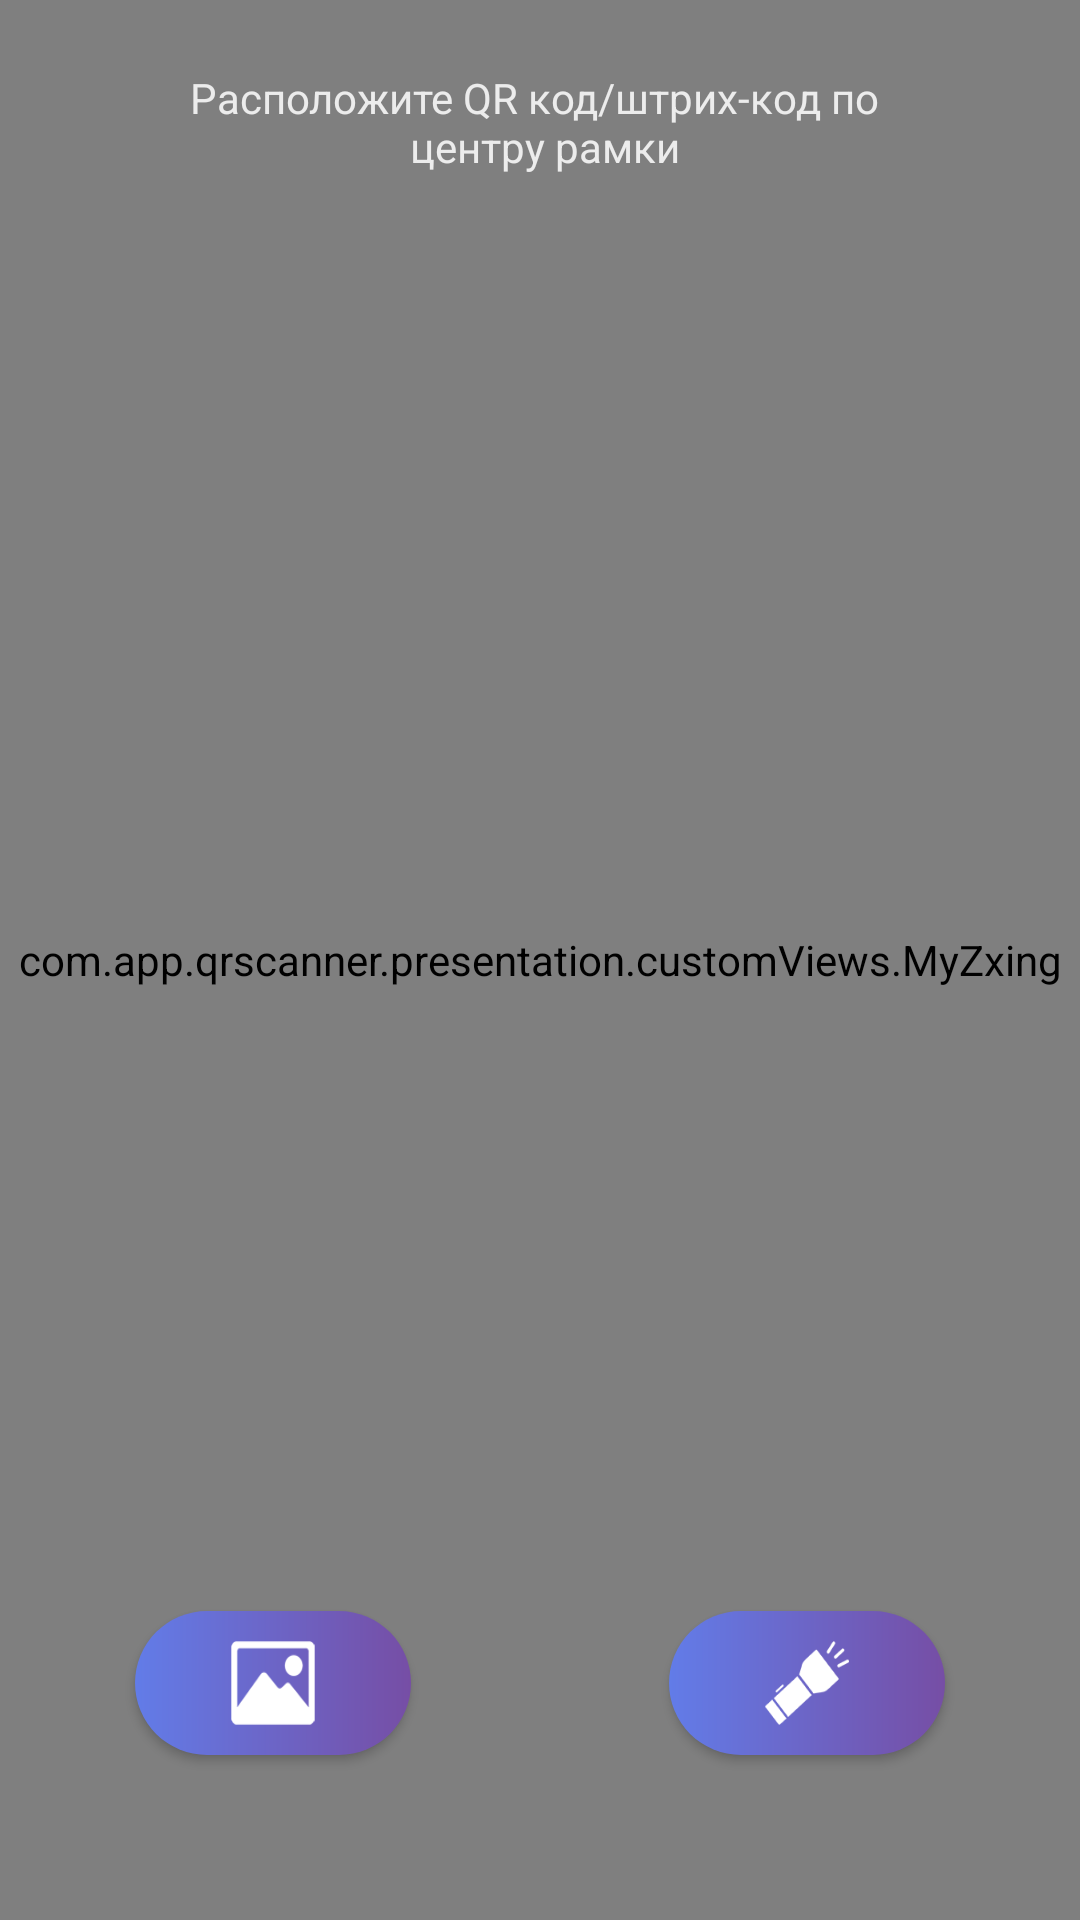

Where to tap for icons on this 1080px×1920px app screen, as [x,y]:
flashlight: [807,1683]
gallery pick: [273,1683]
